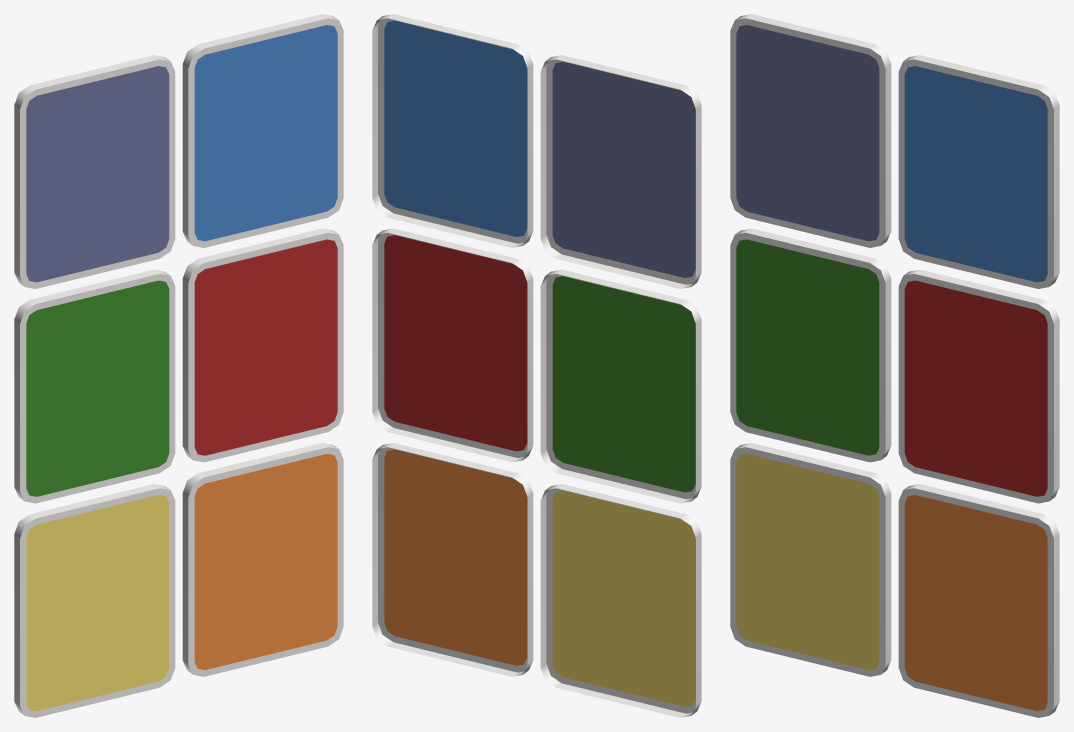
The model's file is Wall_Decoration_1.glb.
3 renders of one model, left to right at view 1: azimuth 30°, elevation 25°; view 2: azimuth 150°, elevation 25°; view 3: azimuth 330°, elevation 25°, orthographic.
Parts seen in each view (by area): view 1: Wall_Decoration_1; view 2: Wall_Decoration_1; view 3: Wall_Decoration_1.
Part boxes in pixels (box(x1,y1,x2,y2)): Wall_Decoration_1: box(14, 14, 343, 717); Wall_Decoration_1: box(372, 14, 701, 717); Wall_Decoration_1: box(730, 14, 1059, 717).
Size of the model in its own units: 0.8324 by 1.54 by 0.026.
1 material, 1 textured.
